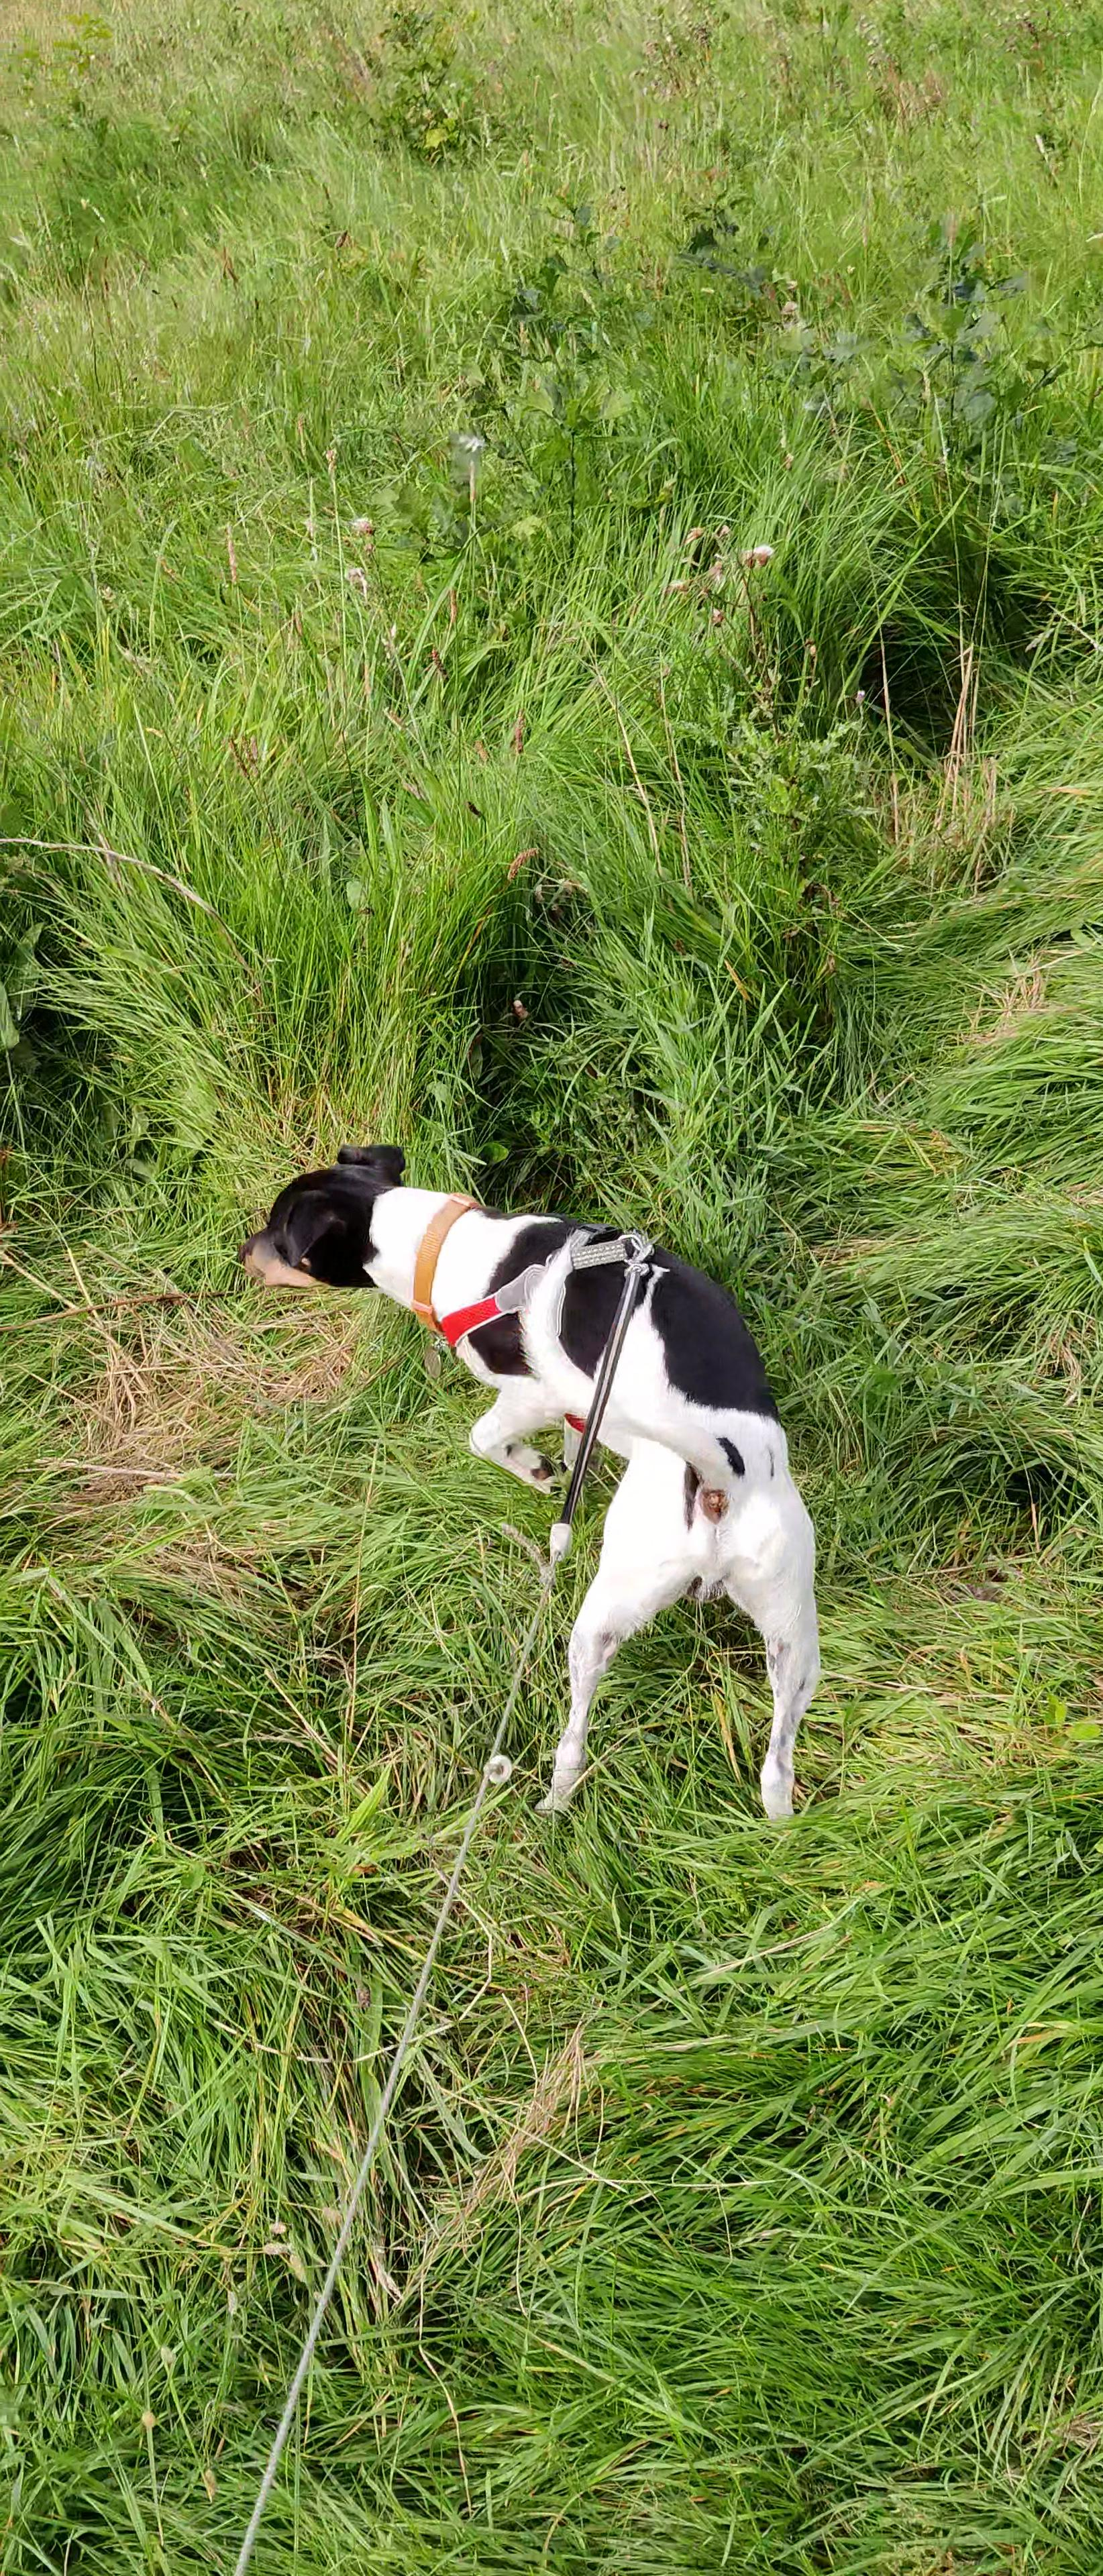Dog: (227, 1135, 832, 1822)
